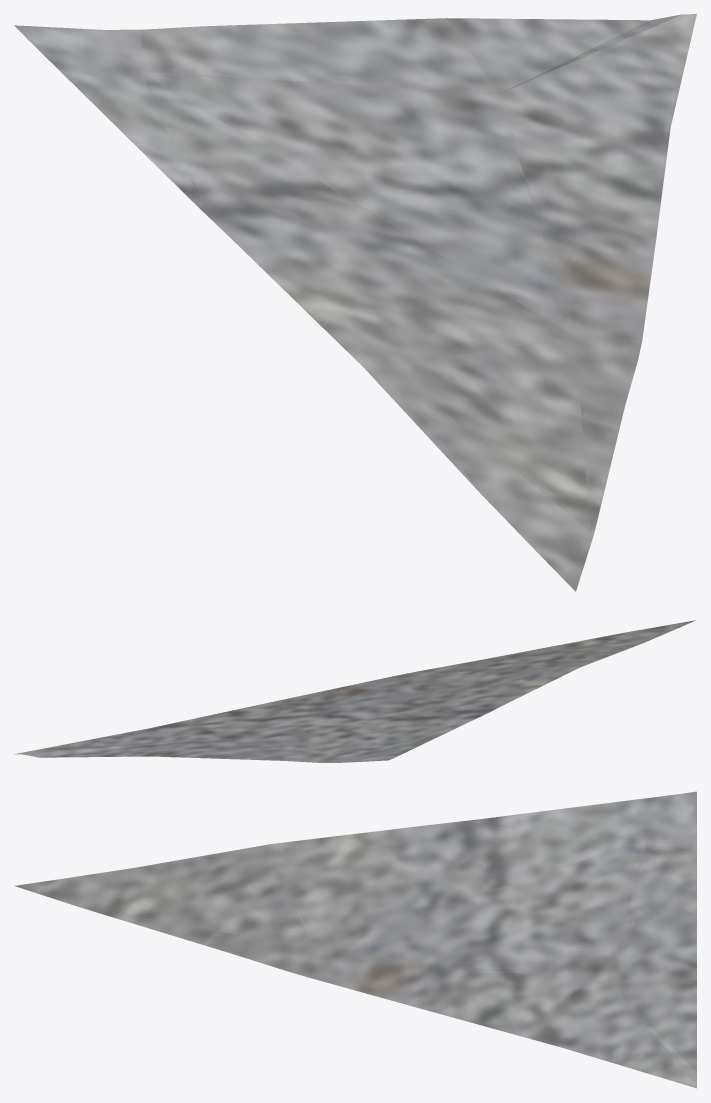
3 renders of one model, top to bottom at view 1: azimuth 30°, elevation 25°; view 2: azimuth 150°, elevation 25°; view 3: azimuth 270°, elevation 25°, orthographic. The views are drawn at different scales.
Size of the model in its own units: 0.8671 by 0.1885 by 1.24.
Materials: 1 (1 with a texture image).
